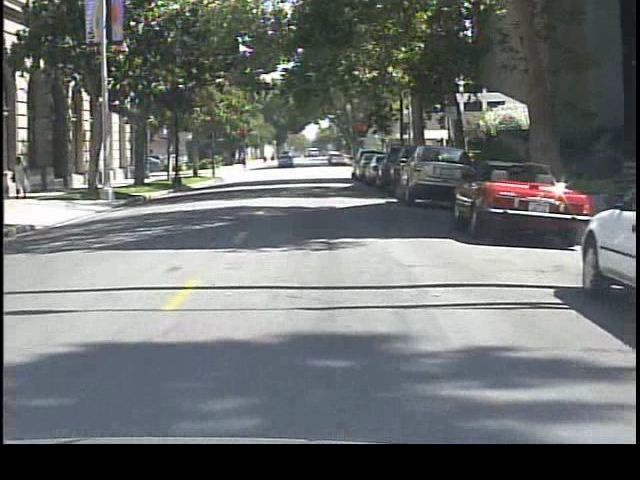person: (9, 151, 36, 198)
